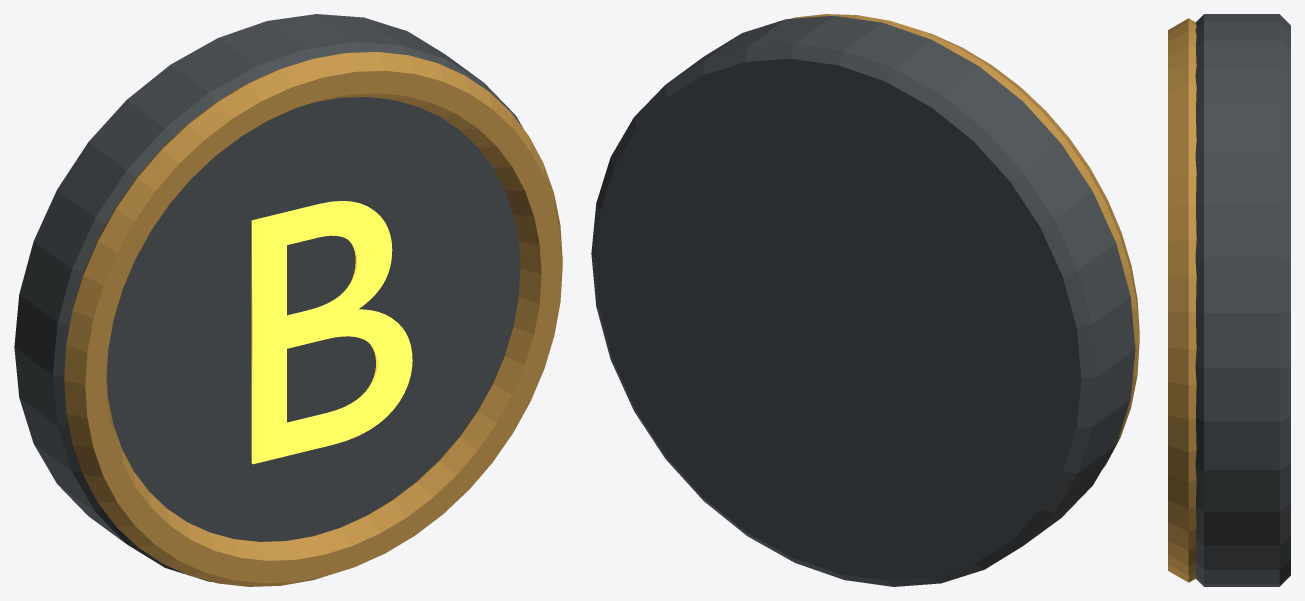
The model's file is FS_FX_BPrompt.glb.
3 views of the same model, side by side, from view 1: azimuth 30°, elevation 25°; view 2: azimuth 150°, elevation 25°; view 3: azimuth 270°, elevation 25° (orthographic).
Parts seen in each view (by area): view 1: BPrompt_Keycap, BPrompt_BrassRim, BPrompt_Letter; view 2: BPrompt_Keycap, BPrompt_BrassRim; view 3: BPrompt_Keycap, BPrompt_BrassRim.
Boxes of the visible parts, left/top/right/bottom form: BPrompt_Keycap: left=14, top=14, right=523, bottom=581; BPrompt_BrassRim: left=64, top=52, right=562, bottom=586; BPrompt_Letter: left=251, top=201, right=412, bottom=464; BPrompt_Keycap: left=591, top=15, right=1135, bottom=586; BPrompt_BrassRim: left=790, top=14, right=1139, bottom=469; BPrompt_Keycap: left=1195, top=14, right=1290, bottom=586; BPrompt_BrassRim: left=1168, top=18, right=1196, bottom=582.
Size of the model in its own units: 0.41 by 0.41 by 0.0877.
